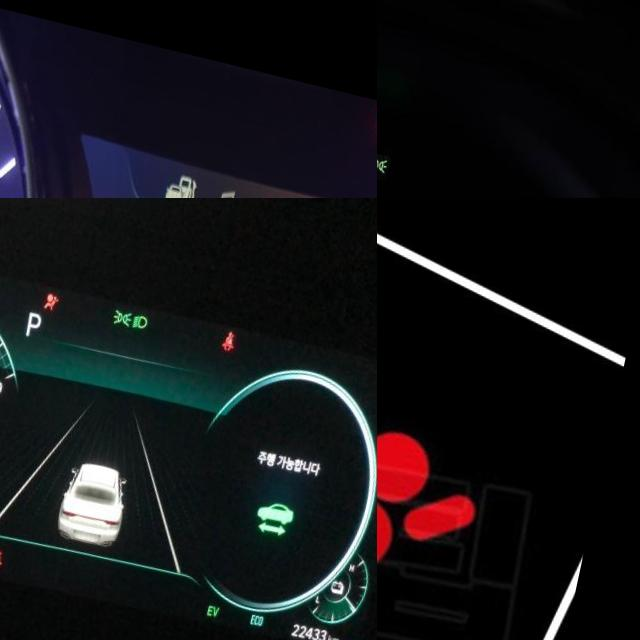Low beam: (139, 295, 156, 313)
SideLamp: (118, 291, 140, 311), (377, 137, 397, 157)
